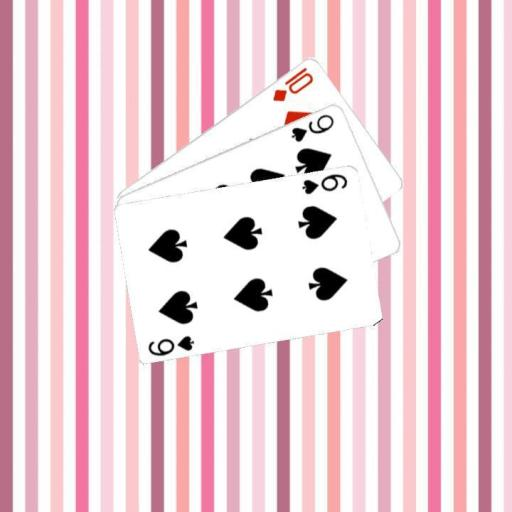card-corner: (270, 63, 315, 103), (288, 110, 336, 144), (299, 170, 349, 196), (145, 332, 196, 357)
